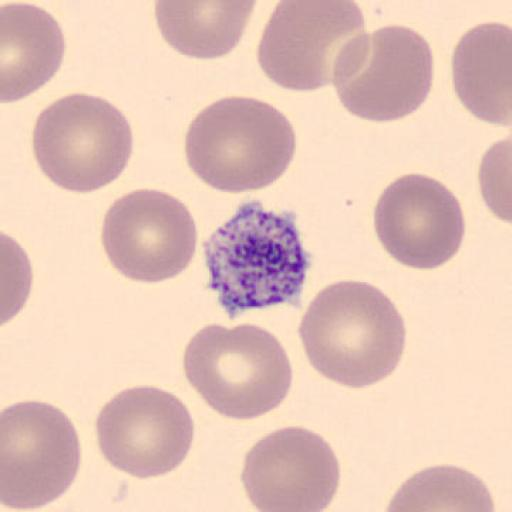Platelet: (200, 198, 314, 320)
RBC: (296, 278, 408, 391), (182, 94, 299, 194), (182, 321, 294, 421), (30, 91, 136, 195), (331, 23, 436, 124), (256, 0, 367, 93), (93, 382, 196, 481), (100, 186, 199, 286), (372, 172, 467, 272), (2, 398, 83, 512), (240, 423, 342, 512), (2, 1, 68, 105), (451, 20, 512, 127), (153, 1, 259, 61), (382, 462, 496, 512), (476, 130, 512, 230), (1, 230, 33, 329)
